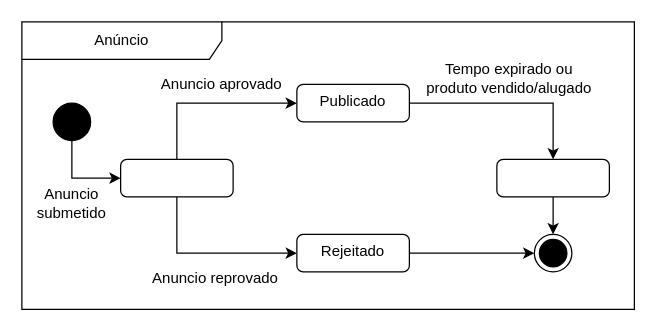
Image size: 656x331. Some labels were removed from this diagram. The shapes that lost their labels are listed below. From the top down, each one's centre as x and y in pixels, then its label:
At (x=176, y=177): "Submetido".
At (x=552, y=177): "Arquivado".
